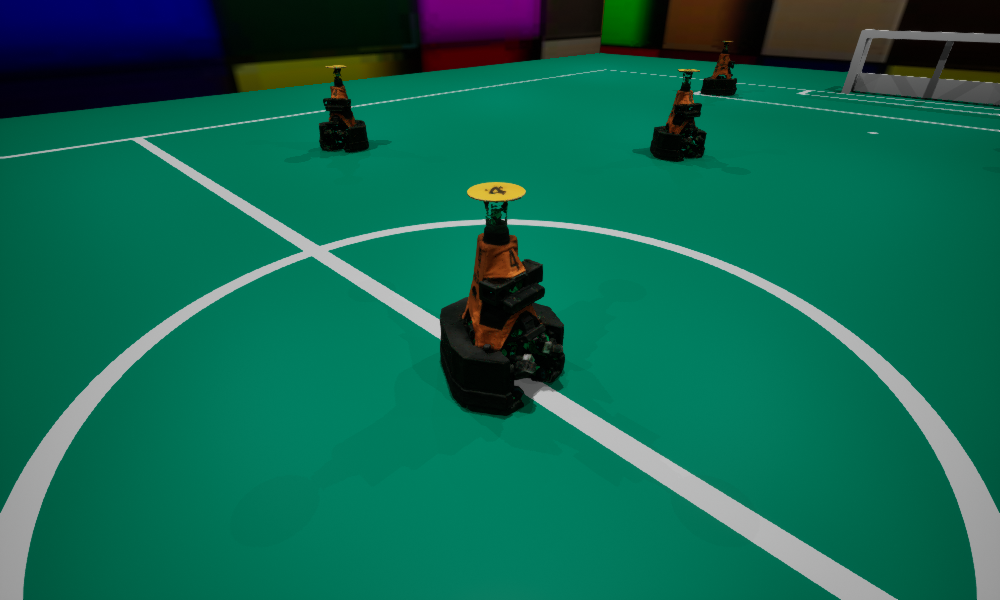o: (440, 182, 564, 415), (650, 69, 706, 161), (319, 65, 368, 151), (701, 41, 736, 95)
